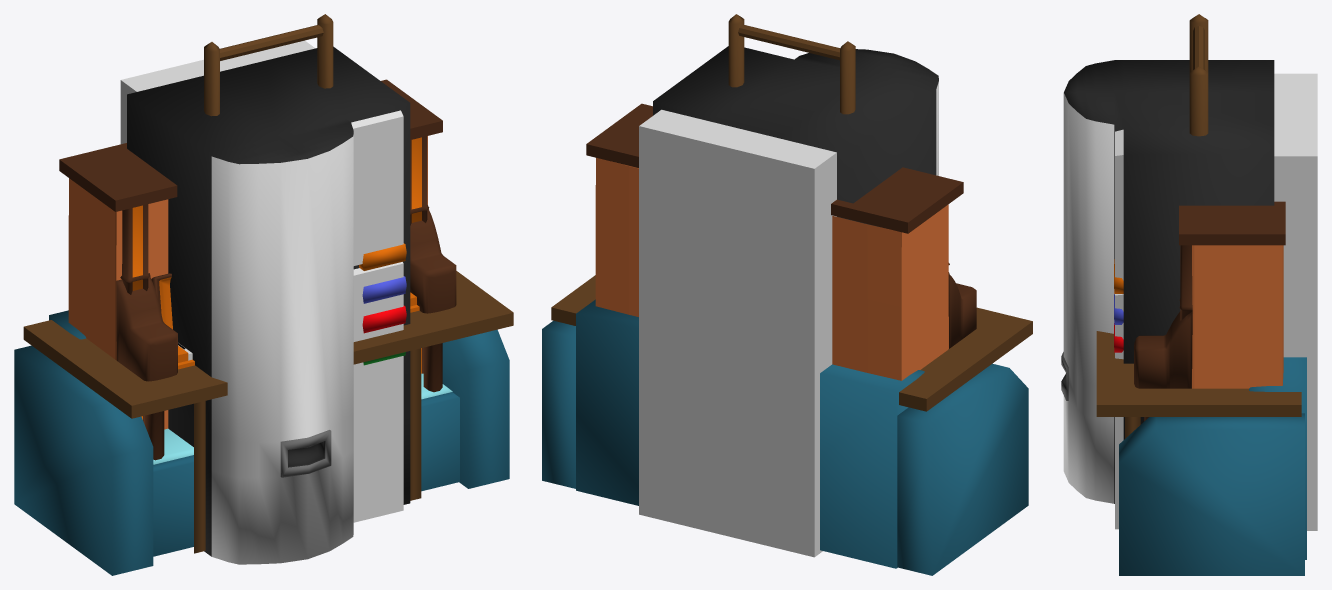
The model's file is modelos.fbx.
The picture shows the model from 3 angles, left to right: view 1: azimuth 30°, elevation 25°; view 2: azimuth 150°, elevation 25°; view 3: azimuth 270°, elevation 25°; orthographic projection. The views are drawn at different scales.
Parts seen in each view (by area): view 1: Maquina_Refri, Sofa, Piano, Geladeira, Mesa, Escada; view 2: Geladeira, Sofa, Piano, Maquina_Refri, Mesa, Escada; view 3: Maquina_Refri, Sofa, Piano, Geladeira, Mesa, Escada.
Part boxes in pixels (<box>): Maquina_Refri: <box>127,46,410,564</box>; Sofa: <box>14,310,509,575</box>; Piano: <box>59,79,456,460</box>; Geladeira: <box>120,40,403,522</box>; Mesa: <box>23,271,513,553</box>; Escada: <box>204,14,333,116</box>; Geladeira: <box>639,109,836,557</box>; Sofa: <box>542,299,1028,575</box>; Piano: <box>586,103,976,380</box>; Maquina_Refri: <box>653,46,938,227</box>; Mesa: <box>551,275,1032,411</box>; Escada: <box>728,14,855,114</box>; Maquina_Refri: <box>1061,60,1274,503</box>; Sofa: <box>1119,357,1306,575</box>; Piano: <box>1134,201,1285,420</box>; Geladeira: <box>1115,73,1317,530</box>; Mesa: <box>1096,331,1301,438</box>; Escada: <box>1189,14,1208,136</box>.
Bounding box in the file's own units: 2.69 × 3.06 × 1.59.
